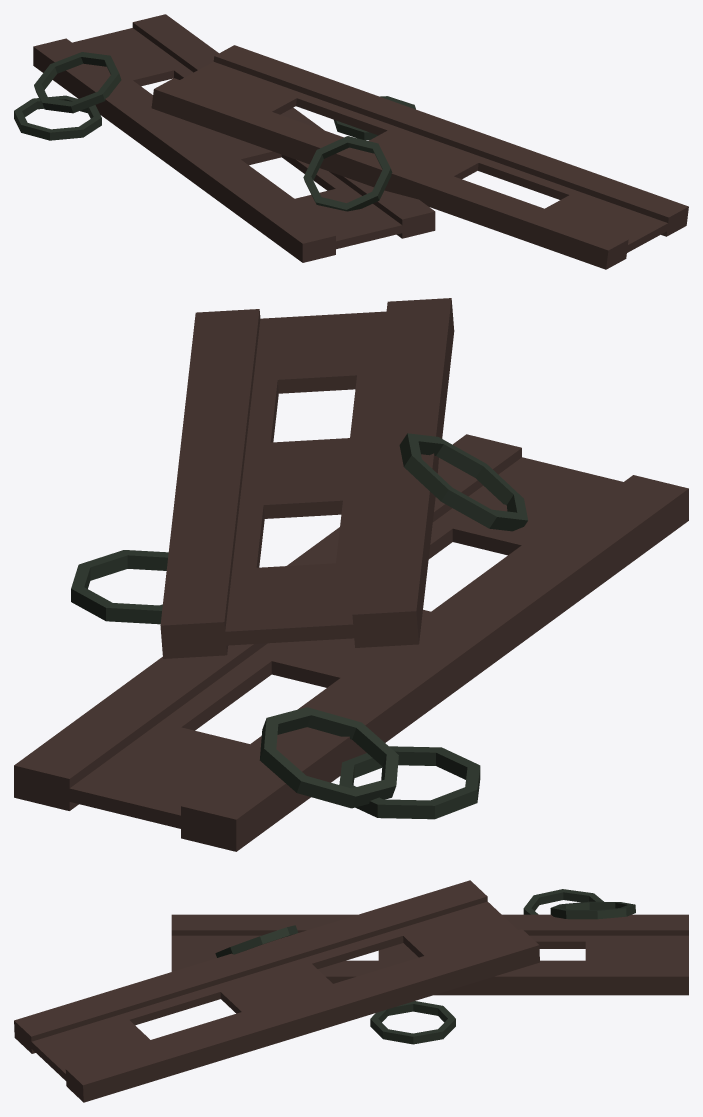
The model's file is MetalScrapV2.gltf.
The picture shows the model from 3 angles, top to bottom: view 1: azimuth 30°, elevation 25°; view 2: azimuth 150°, elevation 25°; view 3: azimuth 270°, elevation 25°; orthographic projection. The views are drawn at different scales.
Visible parts, largest first — view 1: MetalSrapV2; view 2: MetalSrapV2; view 3: MetalSrapV2.
Part boxes in pixels (box(x1,y1,x2,y2)): MetalSrapV2: box(14, 14, 688, 269); MetalSrapV2: box(14, 298, 688, 851); MetalSrapV2: box(14, 880, 688, 1102).
Size of the model in its own units: 1.22 by 0.1952 by 1.77.
